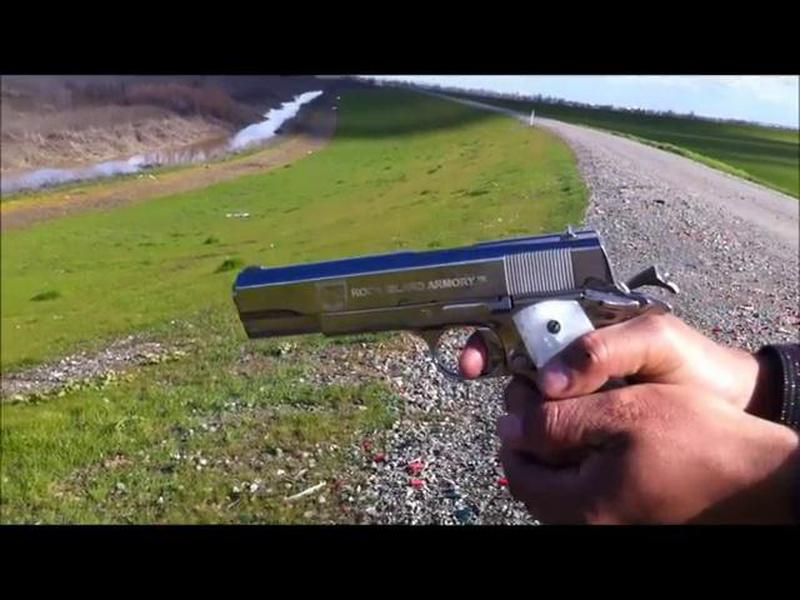Pistola: (215, 186, 662, 528)
